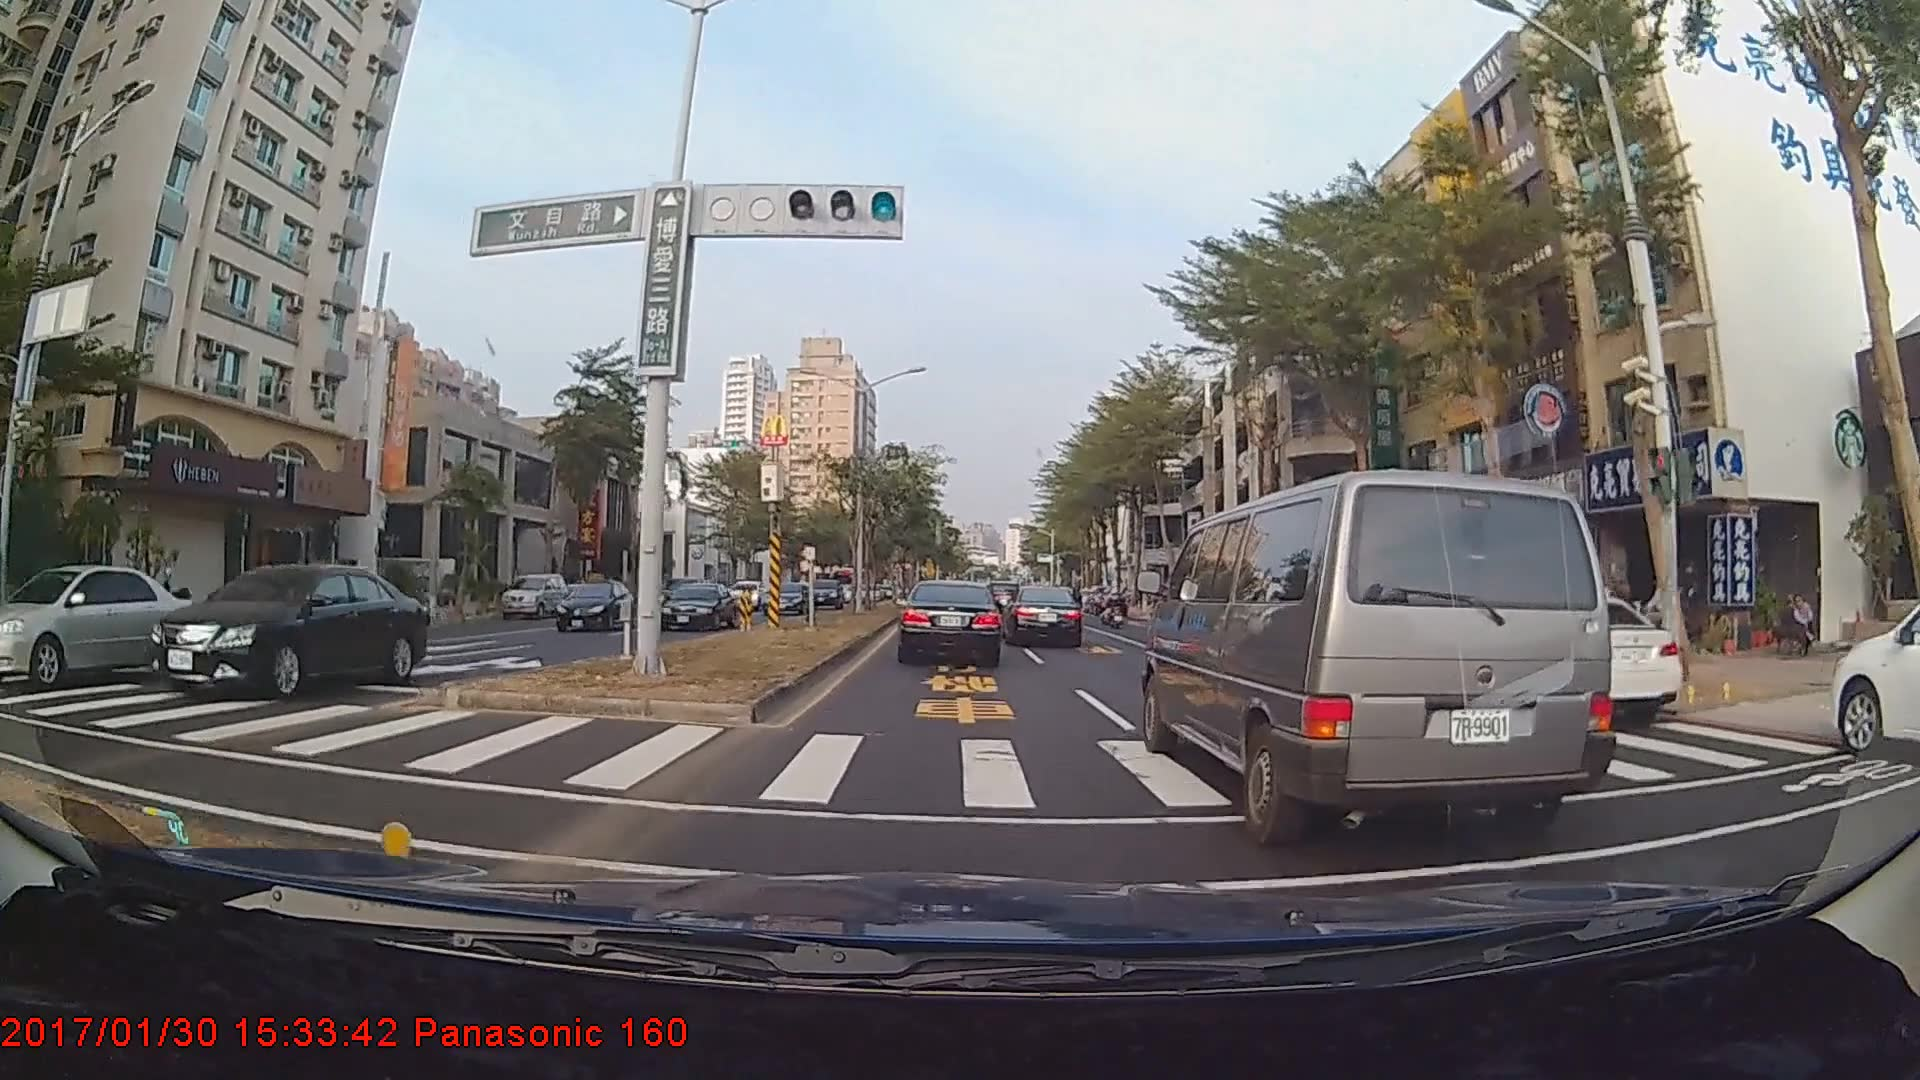vehicle: (1145, 460, 1625, 840), (142, 560, 429, 702), (0, 560, 189, 686), (1455, 585, 1635, 712), (1826, 570, 1917, 764), (899, 579, 1002, 665), (1004, 585, 1084, 649), (553, 580, 636, 630), (655, 580, 735, 630), (500, 570, 568, 617), (762, 582, 808, 615), (804, 576, 843, 609)
